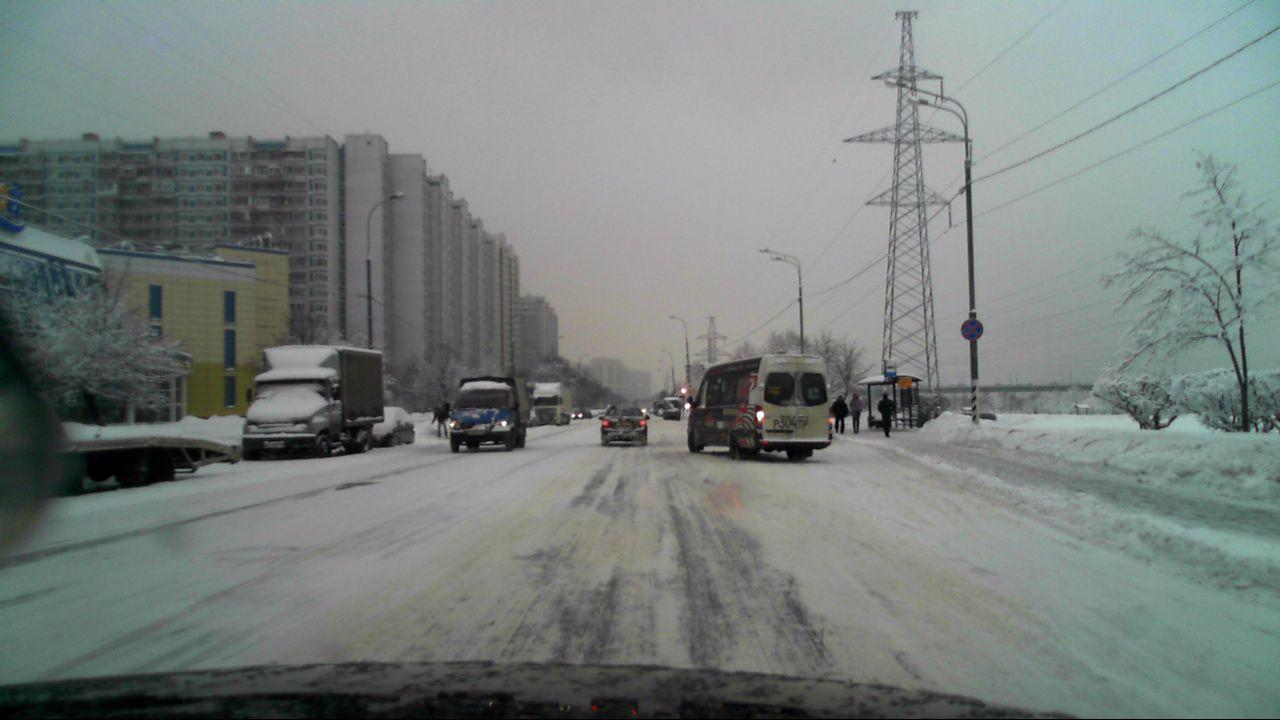3_27: (959, 317, 985, 341)
5_16: (883, 359, 898, 378)
